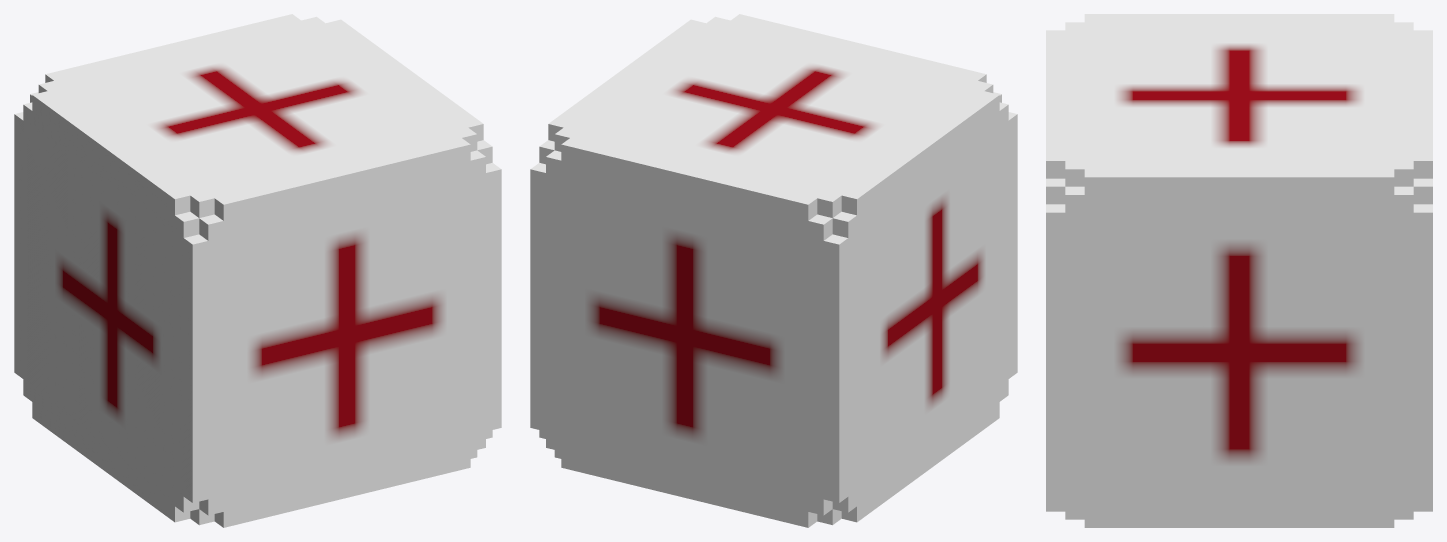
The model's file is Health.fbx.
3 renders of one model, left to right at view 1: azimuth 30°, elevation 25°; view 2: azimuth 150°, elevation 25°; view 3: azimuth 270°, elevation 25°, orthographic. The views are drawn at different scales.
Parts seen in each view (by area): view 1: Matrix; view 2: Matrix; view 3: Matrix.
Part boxes in pixels (<box>): Matrix: <box>14,14,501,527</box>; Matrix: <box>530,14,1017,527</box>; Matrix: <box>1046,14,1432,527</box>.
Size of the model in its own units: 20 by 20 by 20.
1 material, 1 textured.
